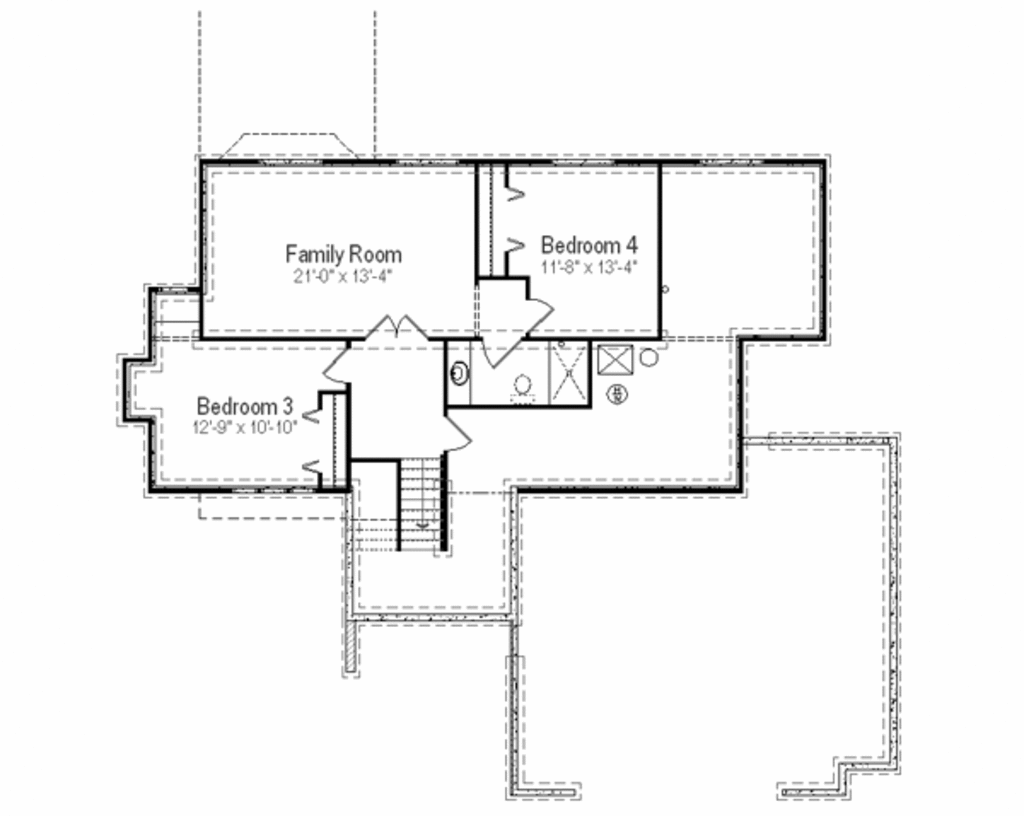door: (361, 311, 436, 344), (321, 339, 360, 382), (517, 295, 560, 334), (478, 336, 520, 368), (441, 413, 469, 453)
large_sink: (503, 368, 541, 408)
small_sink: (440, 348, 479, 411)
stairs: (347, 456, 451, 558)
